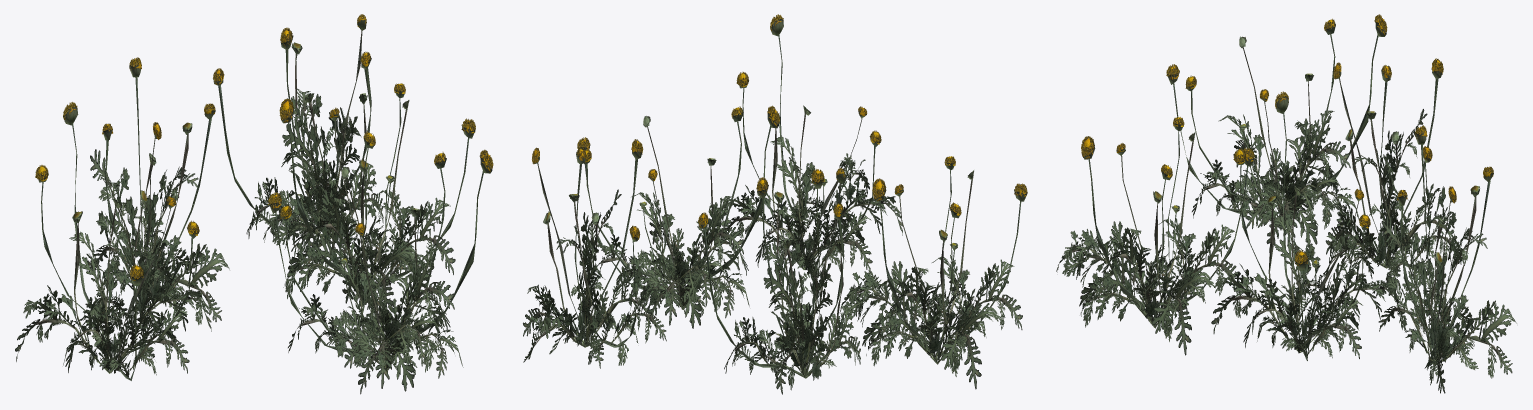
Rendered from flower_stinkkruid_clump.fbx.
3 renders of one model, left to right at view 1: azimuth 30°, elevation 25°; view 2: azimuth 150°, elevation 25°; view 3: azimuth 270°, elevation 25°, orthographic. The views are drawn at different scales.
Visible parts, largest first — view 1: flower_stinkkruid_clump; view 2: flower_stinkkruid_clump; view 3: flower_stinkkruid_clump.
Boxes of the visible parts, x1,y1,x2,y2 form: flower_stinkkruid_clump: (15, 14, 493, 394); flower_stinkkruid_clump: (523, 14, 1027, 394); flower_stinkkruid_clump: (1056, 14, 1516, 393).
Size of the model in its own units: 0.85 by 0.4179 by 0.7886.
Materials: 1 (1 with a texture image).
